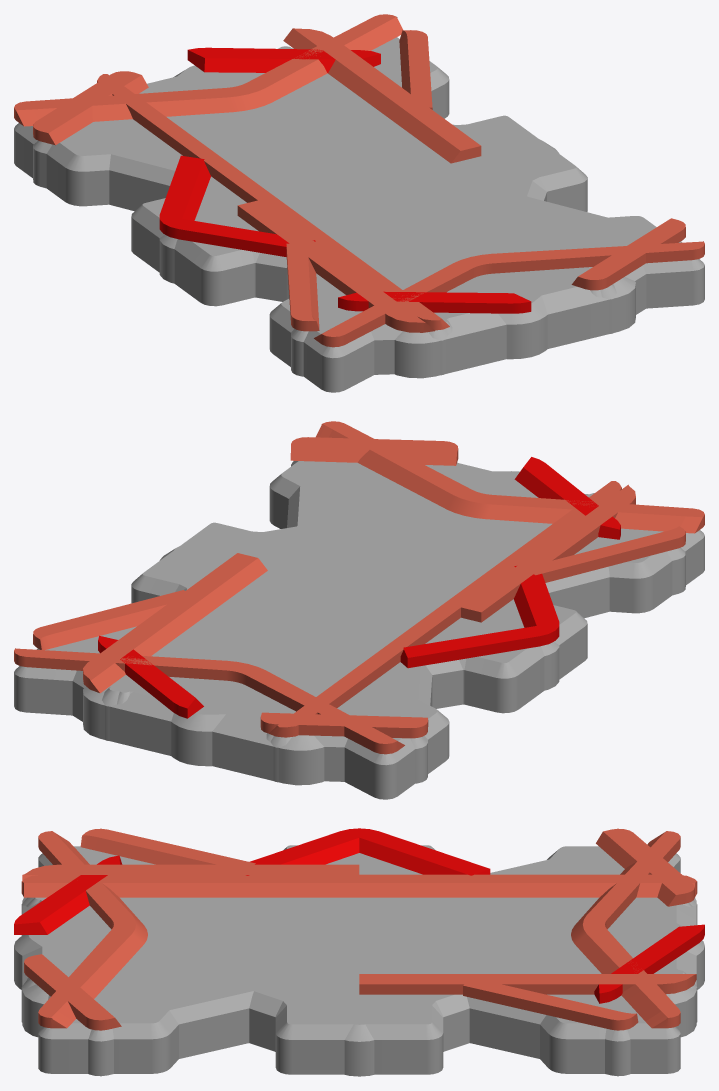
File: SM_Platforms_04a_Border.fbx
The picture shows the model from 3 angles, top to bottom: view 1: azimuth 30°, elevation 25°; view 2: azimuth 150°, elevation 25°; view 3: azimuth 270°, elevation 25°; orthographic projection.
Visible parts, largest first — view 1: SM_Platforms_Border_V1_01a, SM_Platforms_Border_V1_01u, SM_Platforms_Border_01k, SM_Platforms_Border_V1_01e, SM_Platforms_Border_V1_01b; view 2: SM_Platforms_Border_V1_01a, SM_Platforms_Border_V1_01u, SM_Platforms_Border_01k, SM_Platforms_Border_V1_01e, SM_Platforms_Border_V1_01b; view 3: SM_Platforms_Border_V1_01a, SM_Platforms_Border_V1_01u, SM_Platforms_Border_01k, SM_Platforms_Border_V1_01e, SM_Platforms_Border_V1_01b.
Boxes of the visible parts, bbox=[...] form: SM_Platforms_Border_V1_01a: bbox=[129, 28, 635, 378]; SM_Platforms_Border_V1_01u: bbox=[14, 14, 704, 392]; SM_Platforms_Border_01k: bbox=[33, 30, 685, 376]; SM_Platforms_Border_V1_01e: bbox=[159, 47, 605, 359]; SM_Platforms_Border_V1_01b: bbox=[97, 46, 616, 375]; SM_Platforms_Border_V1_01a: bbox=[83, 462, 635, 785]; SM_Platforms_Border_V1_01u: bbox=[14, 421, 704, 799]; SM_Platforms_Border_01k: bbox=[33, 437, 685, 783]; SM_Platforms_Border_V1_01e: bbox=[98, 457, 620, 766]; SM_Platforms_Border_V1_01b: bbox=[102, 481, 621, 782]; SM_Platforms_Border_V1_01a: bbox=[22, 864, 696, 1037]; SM_Platforms_Border_V1_01u: bbox=[38, 831, 680, 1073]; SM_Platforms_Border_01k: bbox=[24, 828, 694, 1076]; SM_Platforms_Border_V1_01e: bbox=[14, 828, 704, 1076]; SM_Platforms_Border_V1_01b: bbox=[21, 874, 697, 1022].
Size of the model in its own units: 2000 by 271 by 3037.
